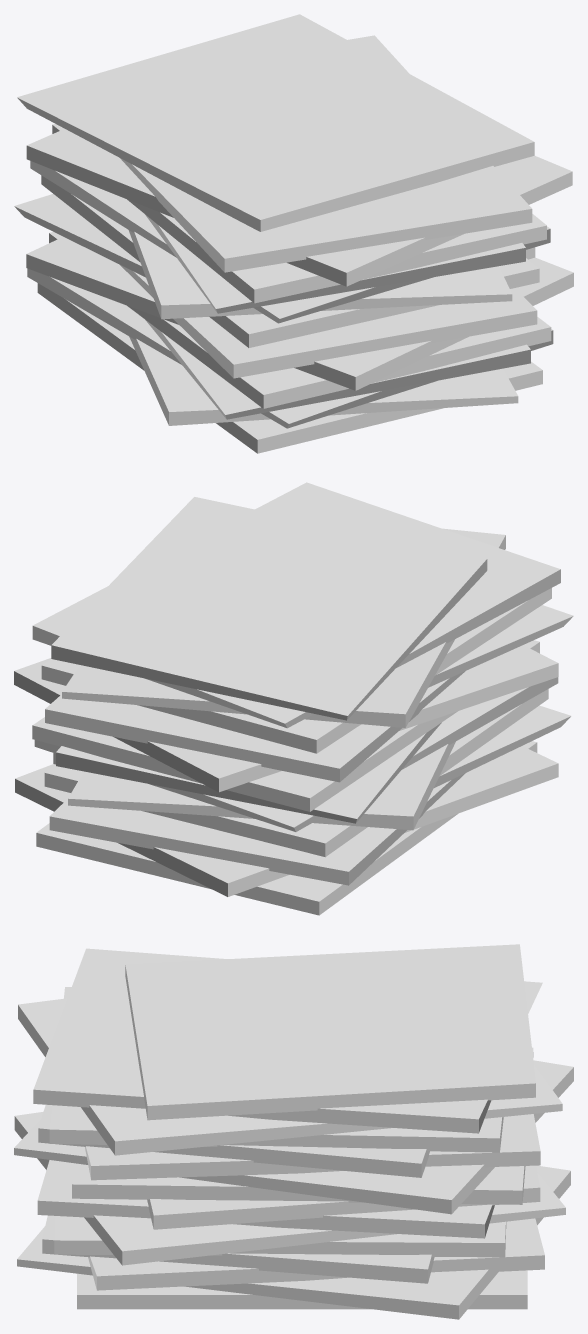
The model's file is Papel1.obj.
The picture shows the model from 3 angles, top to bottom: view 1: azimuth 30°, elevation 25°; view 2: azimuth 150°, elevation 25°; view 3: azimuth 270°, elevation 25°; orthographic projection. The views are drawn at different scales.
Parts seen in each view (by area): view 1: Paper1; view 2: Paper1; view 3: Paper1.
Boxes of the visible parts, x1,y1,x2,y2 form: Paper1: (14, 14, 573, 453); Paper1: (14, 482, 573, 915); Paper1: (14, 944, 573, 1319).
Size of the model in its own units: 0.6046 by 0.3015 by 0.708.
1 material, 1 textured.
